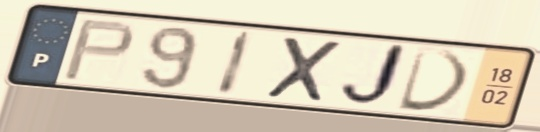9: (136, 24, 201, 91)
D: (394, 44, 475, 115)
I: (212, 27, 258, 99)
J: (335, 40, 413, 111)
P: (58, 17, 138, 83)
X: (261, 33, 347, 105)
